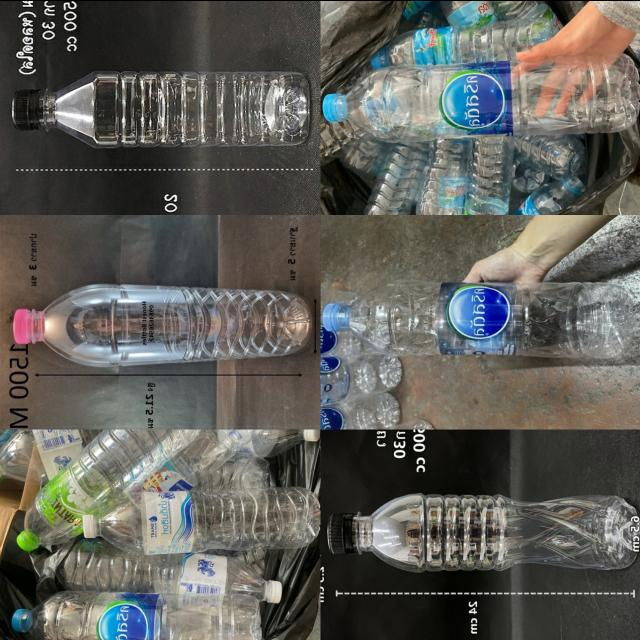plastik: (323, 54, 640, 140), (327, 492, 640, 571), (322, 279, 634, 358), (14, 284, 312, 365), (12, 70, 309, 148), (19, 428, 201, 549), (83, 486, 319, 553), (58, 539, 282, 602), (12, 590, 262, 640), (371, 17, 556, 67), (416, 138, 471, 214), (321, 353, 402, 402), (466, 135, 513, 214), (321, 392, 400, 428)
